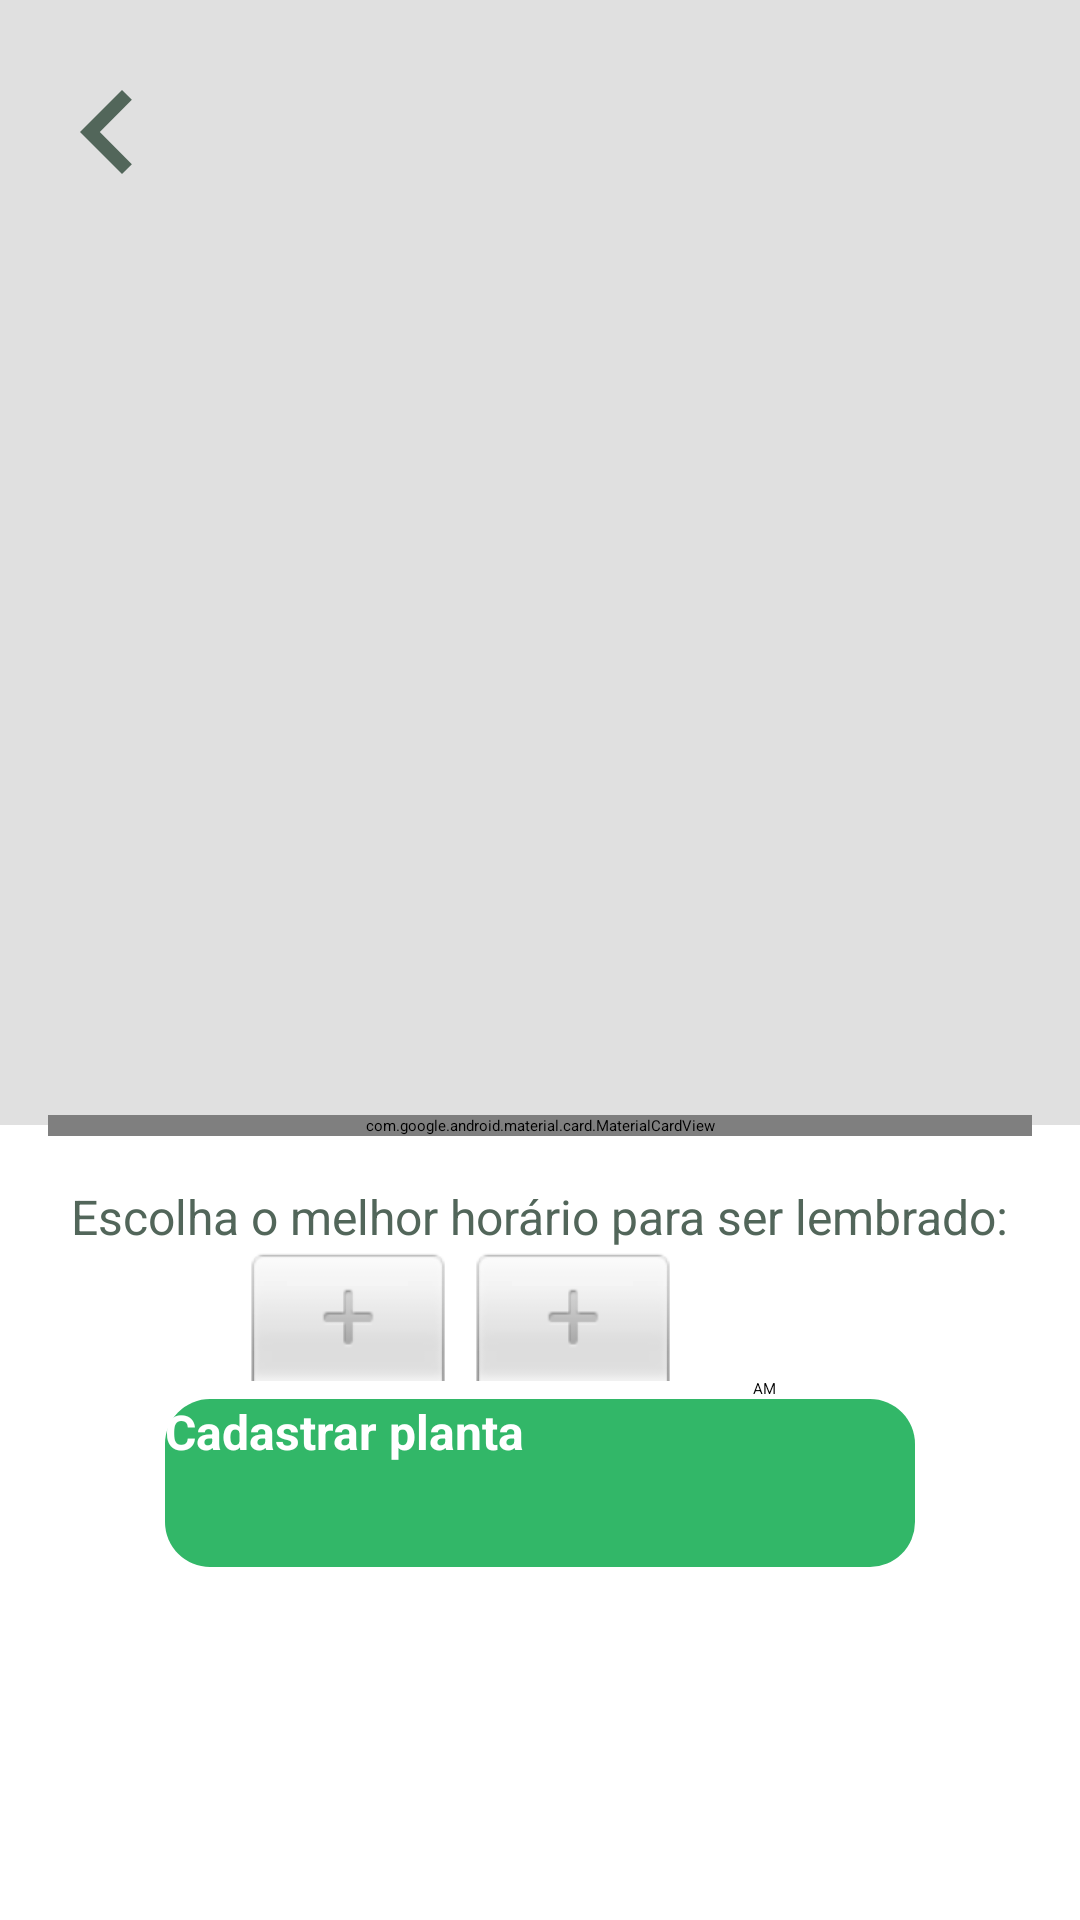

Screen size 1080px×1920px. Icon name, then its box in pixels as (x1, y1, x2, y2):
voltar: (80, 90, 132, 174)
